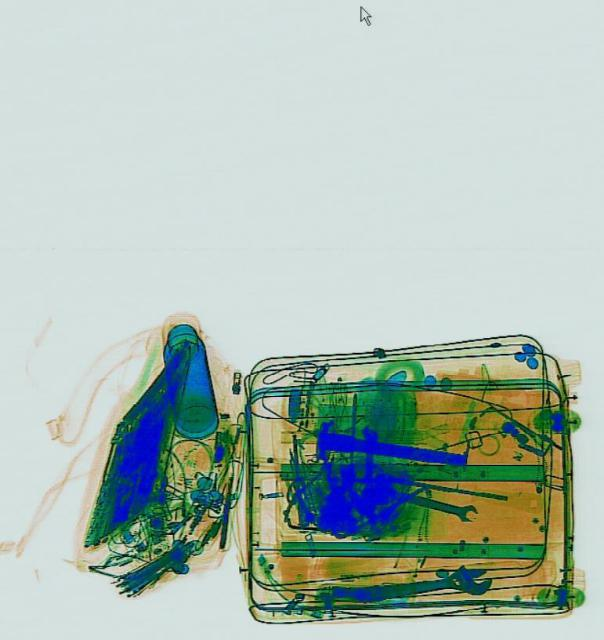Wrench: (346, 558, 491, 614), (395, 484, 476, 524)
